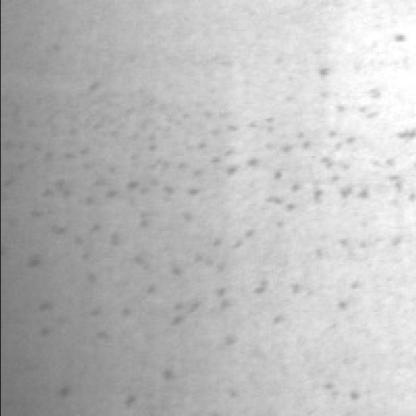pitted_surface: (39, 93, 416, 336), (123, 343, 393, 408)
